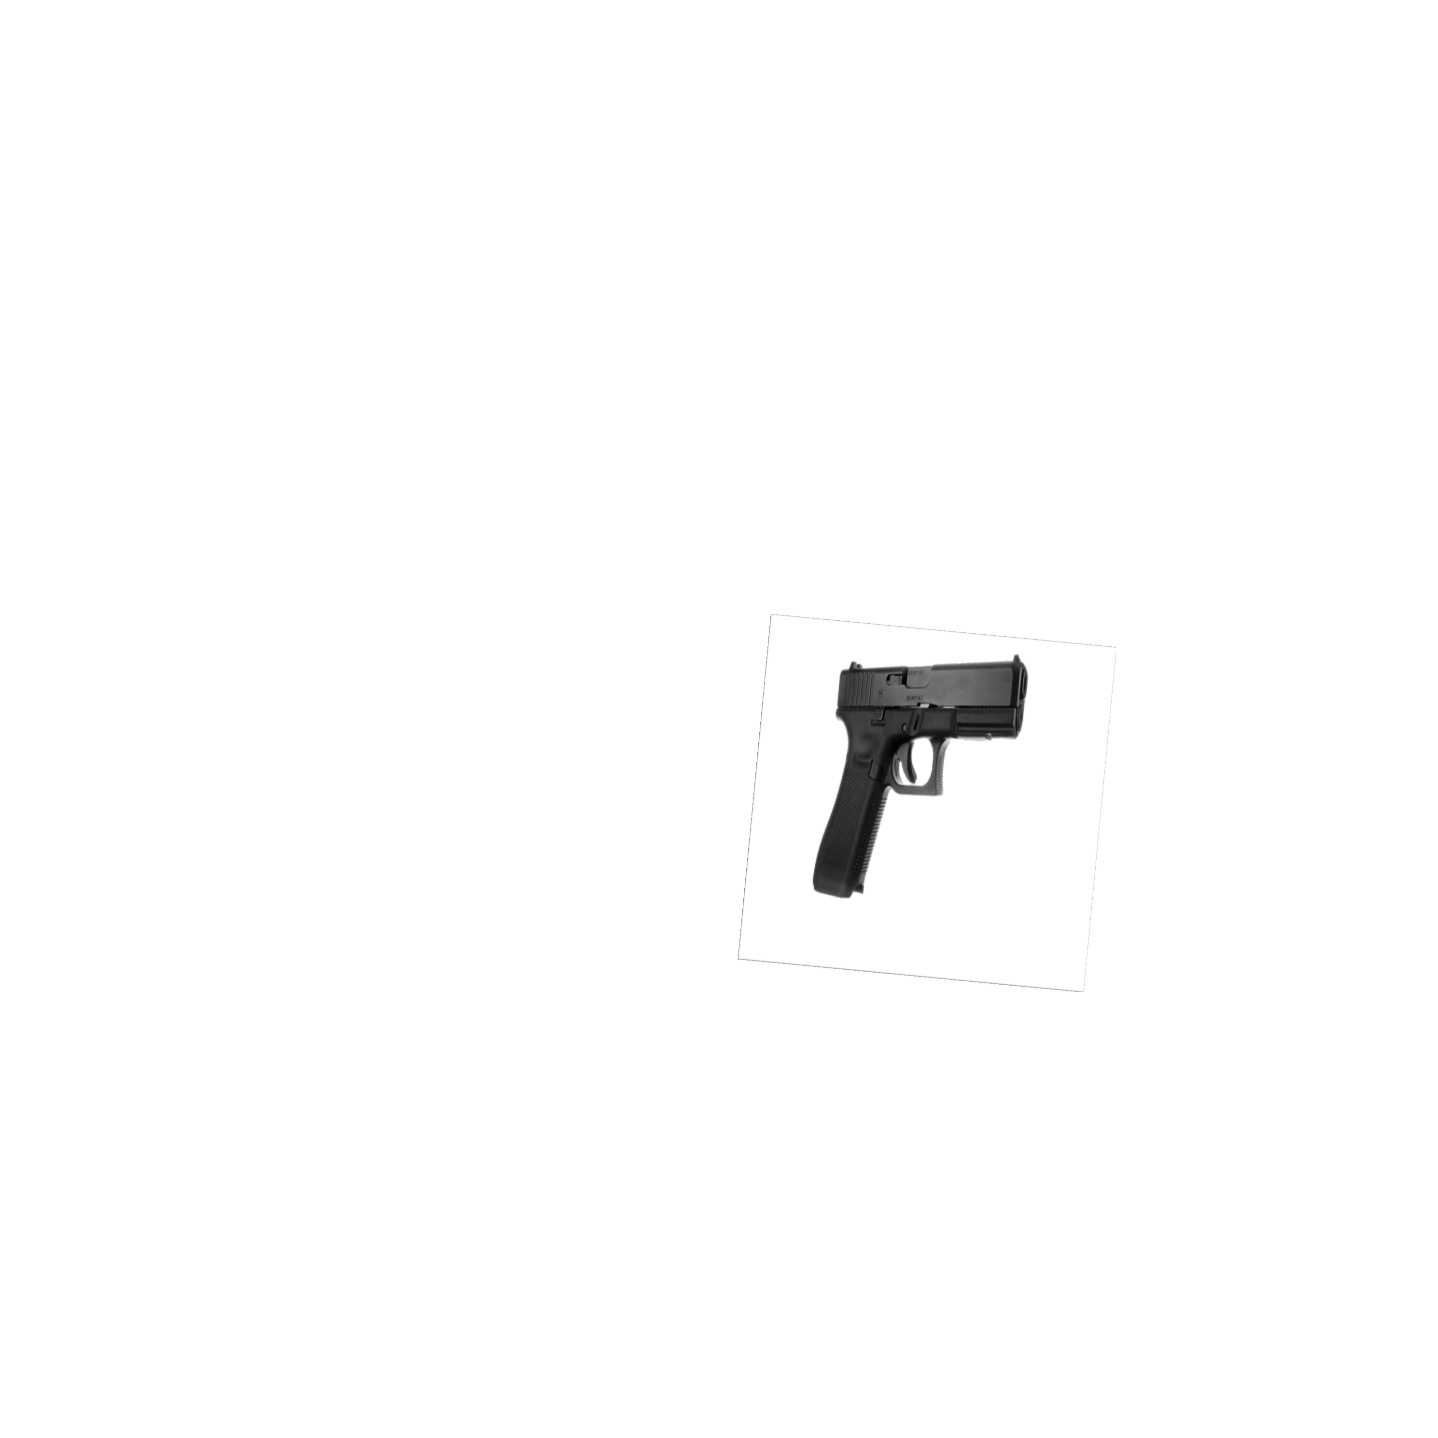gun: (810, 654, 1028, 895)
